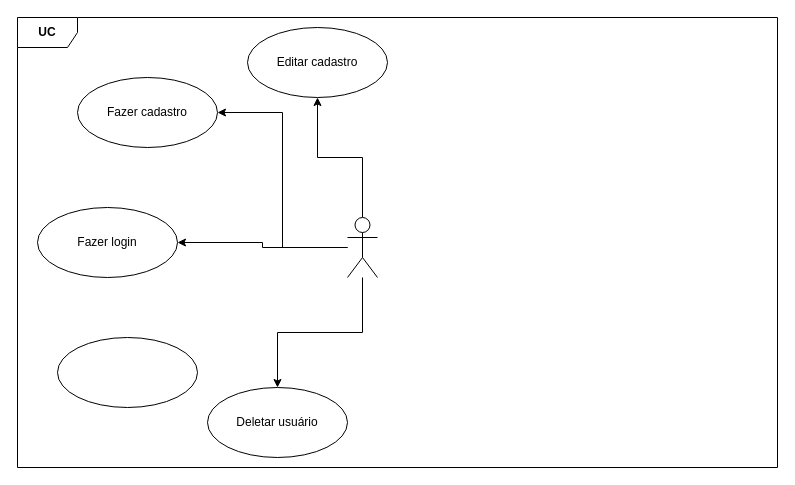
Some shapes in this 795 by 485 pixel diagram are drawn without their labels. The shapes that lost their labels are listed below. From the top down, each one's centre as x and y in pixels, then its label:
point (362, 247): Usuário
point (127, 372): Autenticar
